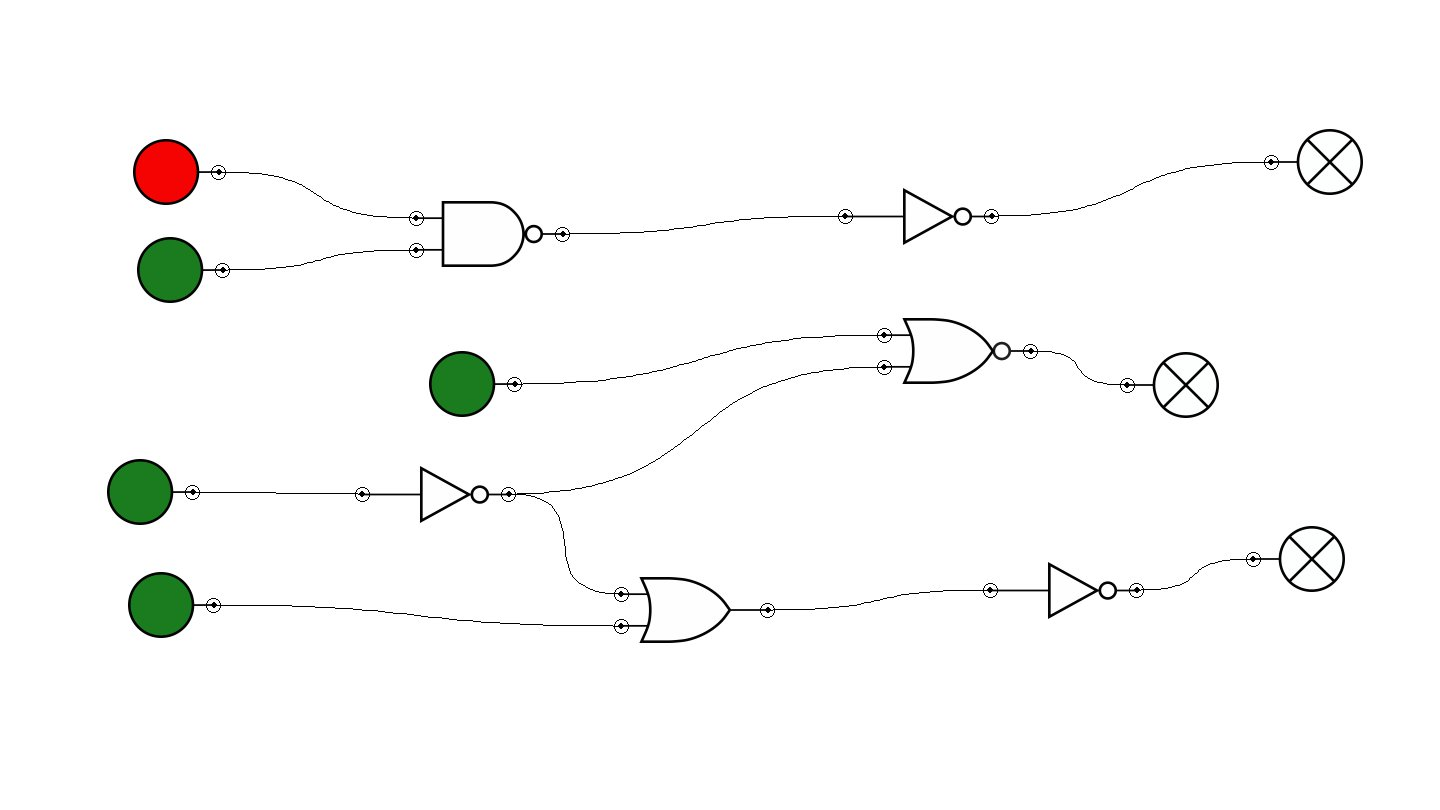bulb: (1120, 352, 1219, 418), (1264, 129, 1363, 195), (1246, 526, 1345, 592)
nand: (409, 201, 570, 267)
nor: (877, 318, 1038, 384)
not: (983, 562, 1144, 619), (355, 466, 516, 523), (838, 188, 999, 245)
or: (614, 577, 775, 643)
switch_False: (133, 139, 226, 205)
switch_True: (107, 459, 200, 525), (128, 572, 221, 638), (137, 237, 230, 303), (429, 351, 522, 417)
